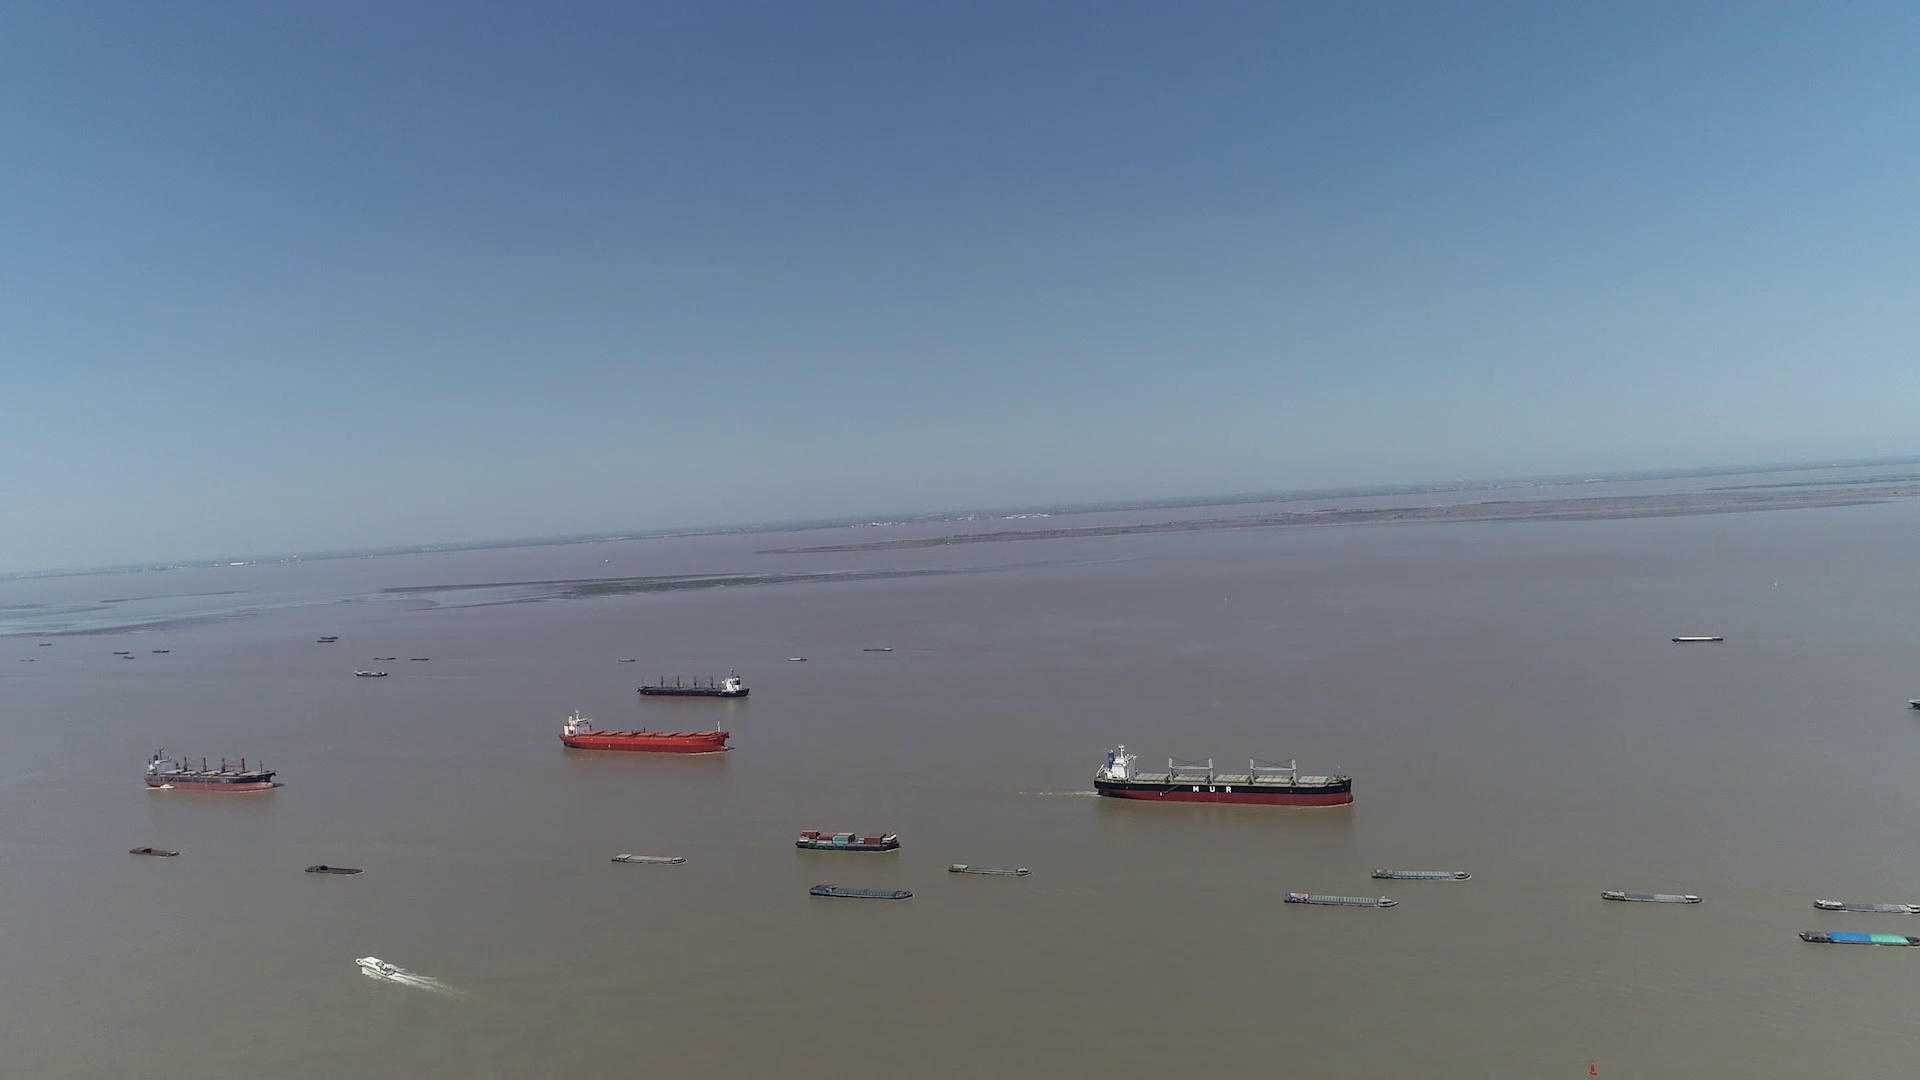ship: (1093, 742, 1354, 808), (559, 709, 731, 754), (145, 746, 280, 791), (637, 671, 749, 698), (795, 828, 901, 851), (1283, 890, 1399, 909), (1803, 928, 1920, 945), (1815, 898, 1919, 916), (1601, 887, 1702, 905), (808, 884, 913, 899), (1370, 864, 1468, 880), (357, 957, 417, 981), (945, 861, 1029, 877), (611, 851, 684, 864), (305, 864, 367, 876), (128, 847, 178, 856), (1672, 636, 1724, 644), (355, 669, 385, 676)
